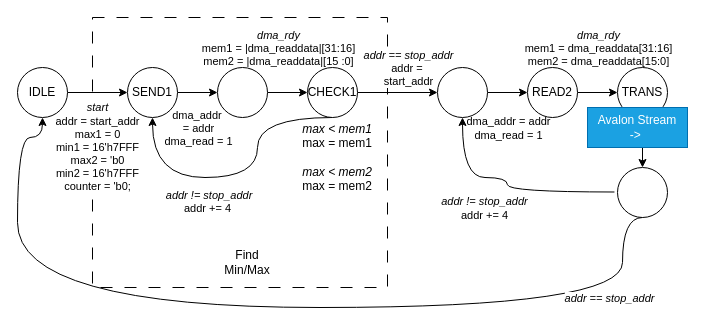
This 705x326 diagram has some shape labels left out. Here are the shapes that lost their labels. From the top down, the centre of each, then its label:
[242,92]: READ1
[462,92]: SEND2
[642,192]: CHECK
